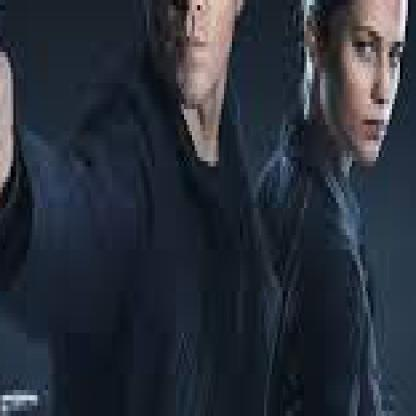gun: (66, 10, 258, 411)
